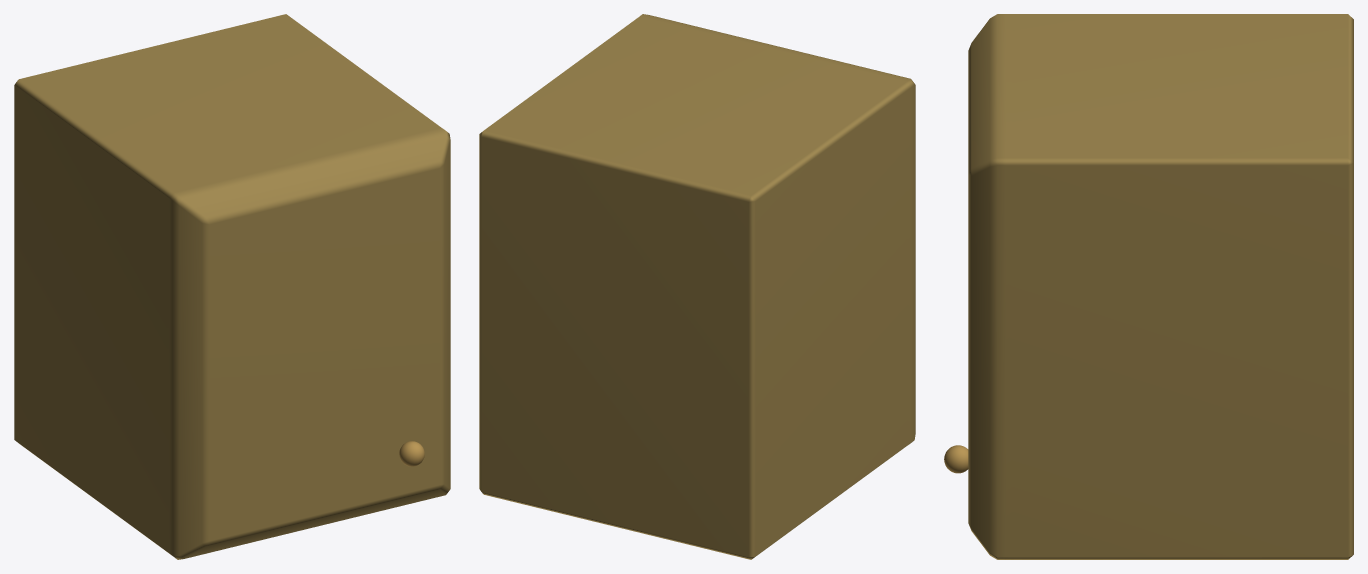
The model's file is TopCabinetRigthGeo.fbx.
3 views of the same model, side by side, from view 1: azimuth 30°, elevation 25°; view 2: azimuth 150°, elevation 25°; view 3: azimuth 270°, elevation 25° (orthographic). The views are drawn at different scales.
Visible parts, largest first — view 1: TopCabinetRigthGeo; view 2: TopCabinetRigthGeo; view 3: TopCabinetRigthGeo.
Boxes of the visible parts, x1,y1,x2,y2 form: TopCabinetRigthGeo: (14, 14, 450, 559); TopCabinetRigthGeo: (479, 14, 915, 559); TopCabinetRigthGeo: (944, 14, 1353, 559).
Bounding box in the file's own units: 131 × 165 × 152.
